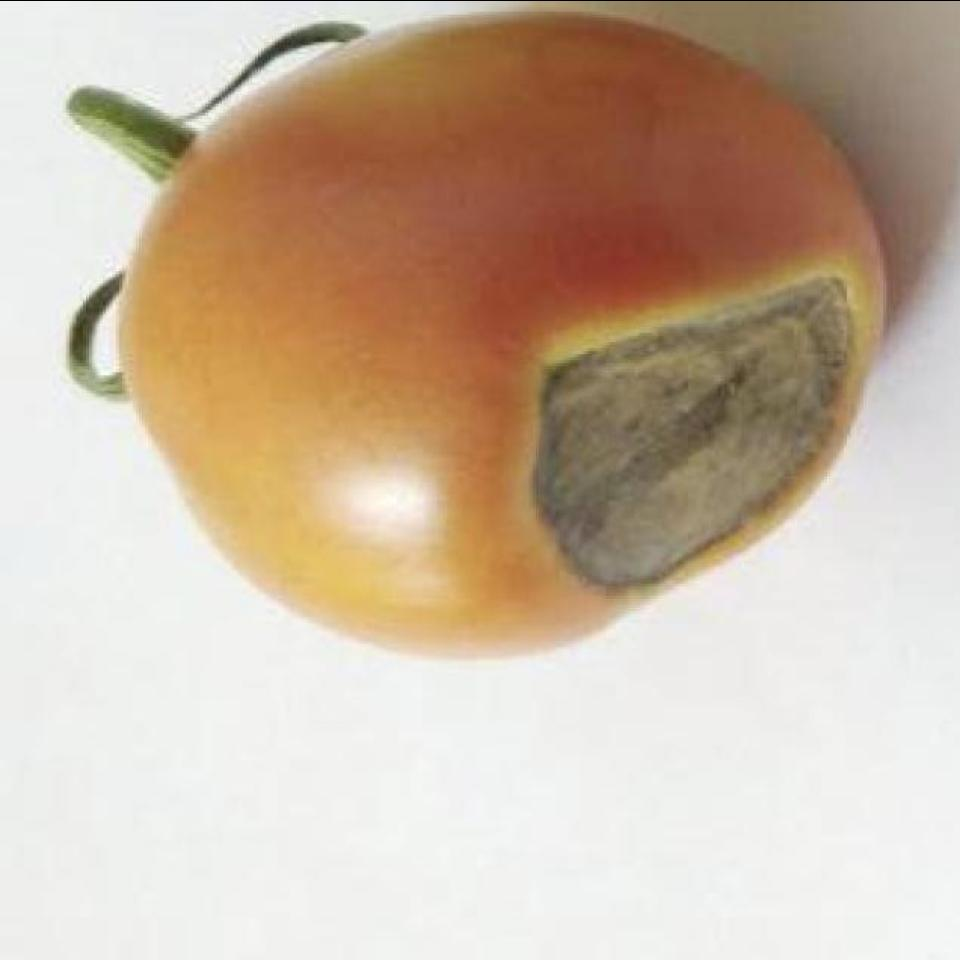Blossom_end_rot: (528, 270, 886, 610)
